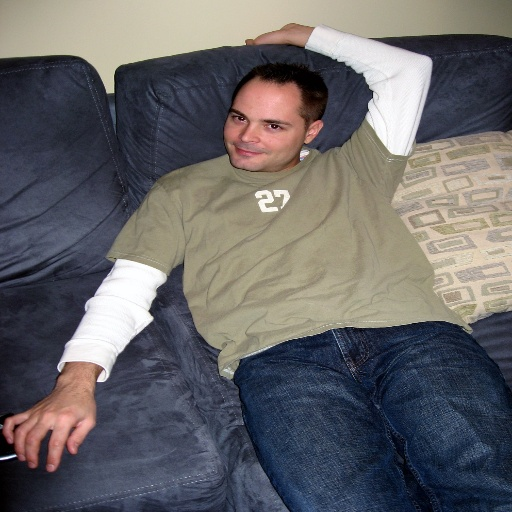hand: (6, 354, 103, 475), (246, 21, 308, 45)
